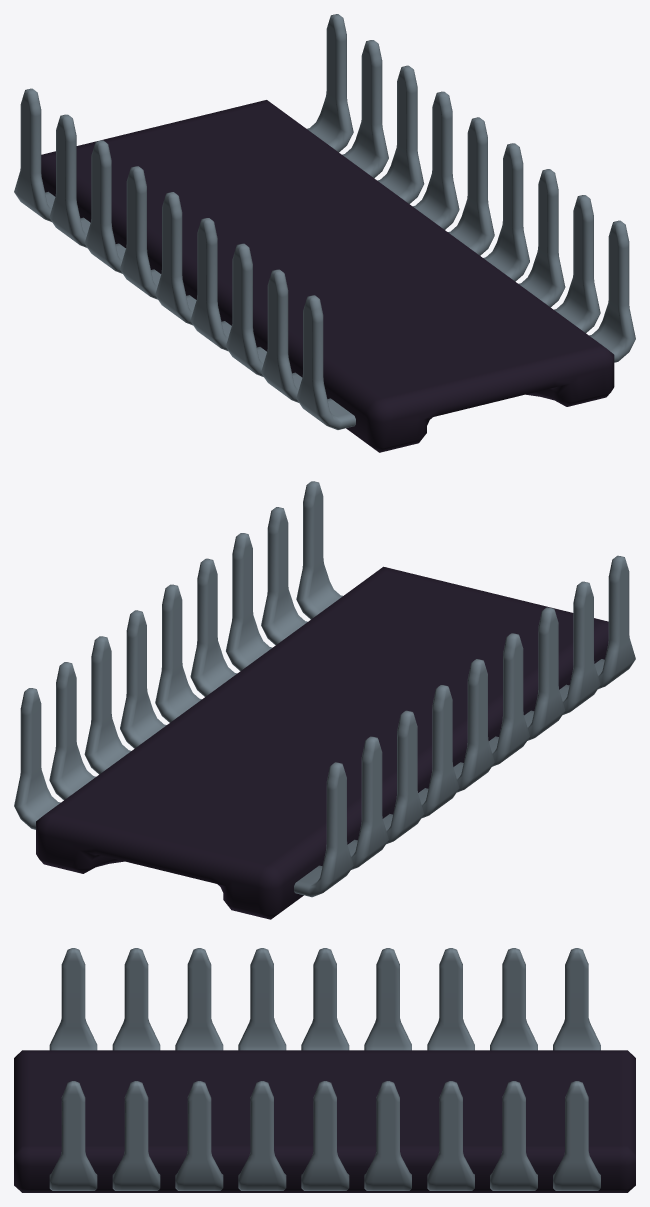
3 renders of one model, top to bottom at view 1: azimuth 30°, elevation 25°; view 2: azimuth 150°, elevation 25°; view 3: azimuth 270°, elevation 25°, orthographic. The views are drawn at different scales.
Visible parts, largest first — view 1: chip_003_mesh, pins_003_mesh; view 2: chip_003_mesh, pins_003_mesh; view 3: chip_003_mesh, pins_003_mesh.
Part boxes in pixels (x1,y1,x2,y2): chip_003_mesh: [41, 100, 614, 452]; pins_003_mesh: [14, 14, 635, 429]; chip_003_mesh: [36, 566, 608, 919]; pins_003_mesh: [14, 481, 635, 897]; chip_003_mesh: [14, 1050, 635, 1192]; pins_003_mesh: [49, 948, 600, 1190].
Bounding box in the file's own units: 5.28 × 2.31 × 10.11.
